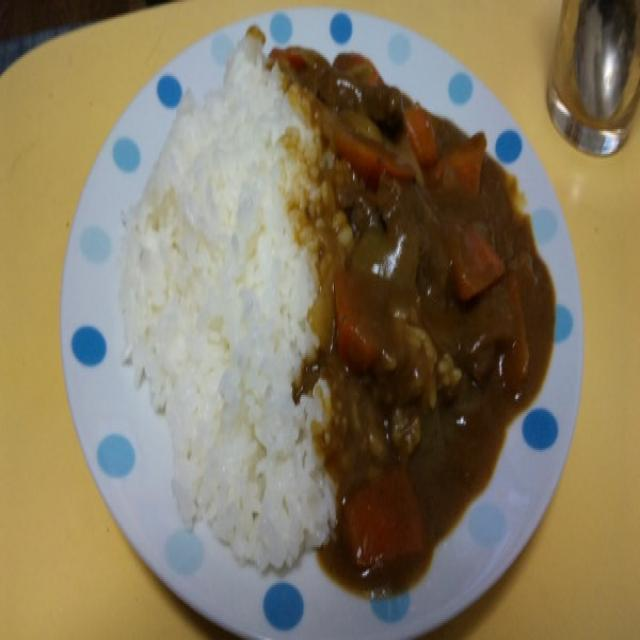Beef Curry: (302, 59, 514, 593)
Rice: (115, 46, 303, 570)
